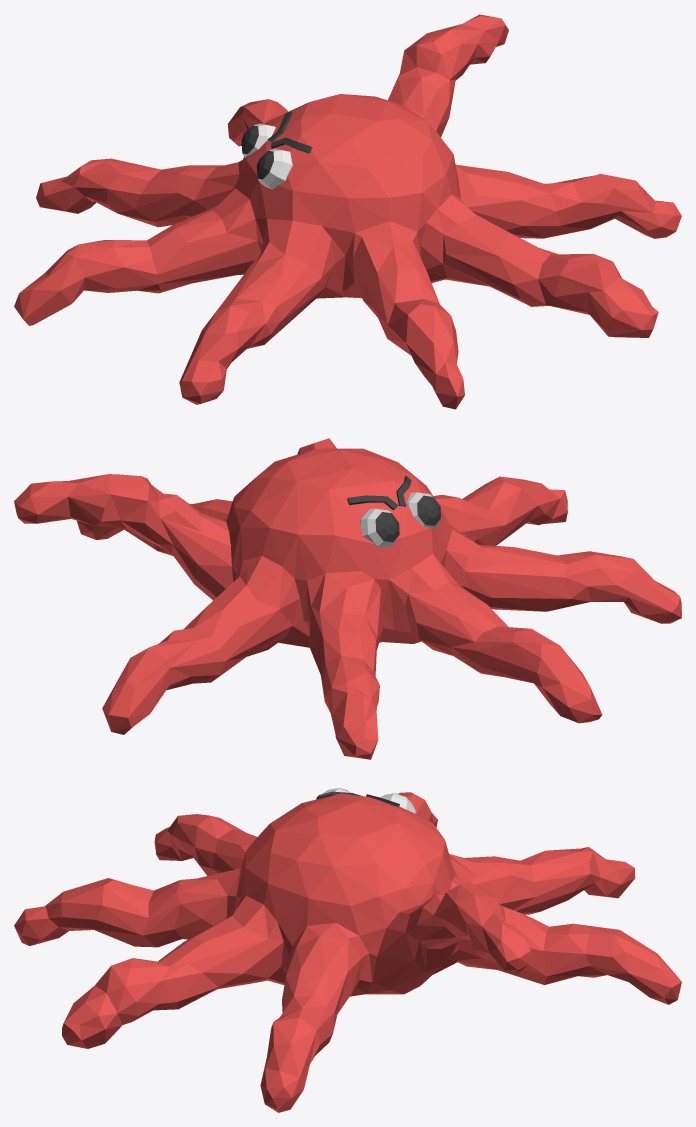
Rendered from octopus.glb.
3 renders of one model, top to bottom at view 1: azimuth 30°, elevation 25°; view 2: azimuth 150°, elevation 25°; view 3: azimuth 270°, elevation 25°, orthographic.
Parts seen in each view (by area): view 1: octopus; view 2: octopus; view 3: octopus.
Boxes of the visible parts, x1,y1,x2,y2 form: octopus: (14, 14, 681, 409); octopus: (14, 438, 681, 759); octopus: (14, 788, 681, 1112).
Size of the model in its own units: 7.18 by 1.96 by 7.13.
